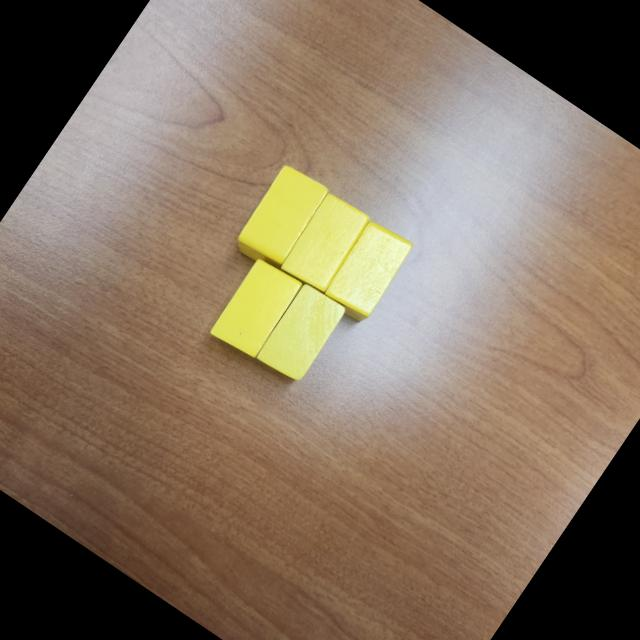yellow: (230, 162, 332, 276), (318, 216, 417, 328), (276, 188, 375, 298), (208, 254, 305, 362), (253, 280, 350, 388)
